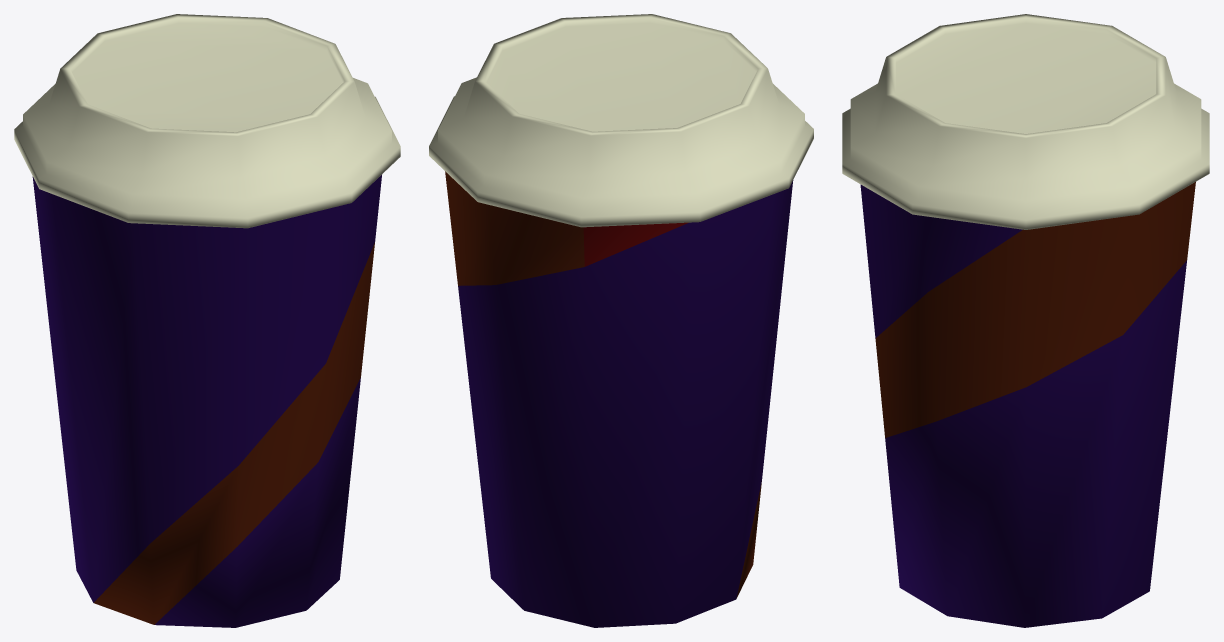
Rendered from Coffee_Cup.fbx.
3 renders of one model, left to right at view 1: azimuth 30°, elevation 25°; view 2: azimuth 150°, elevation 25°; view 3: azimuth 270°, elevation 25°, orthographic.
Visible parts, largest first — view 1: polySurface23; view 2: polySurface23; view 3: polySurface23.
Boxes of the visible parts, x1=… form: polySurface23: x1=14, y1=14, x2=400, y2=627; polySurface23: x1=429, y1=14, x2=813, y2=627; polySurface23: x1=842, y1=14, x2=1209, y2=627.
Size of the model in its own units: 18.37 by 26.14 by 17.47.
